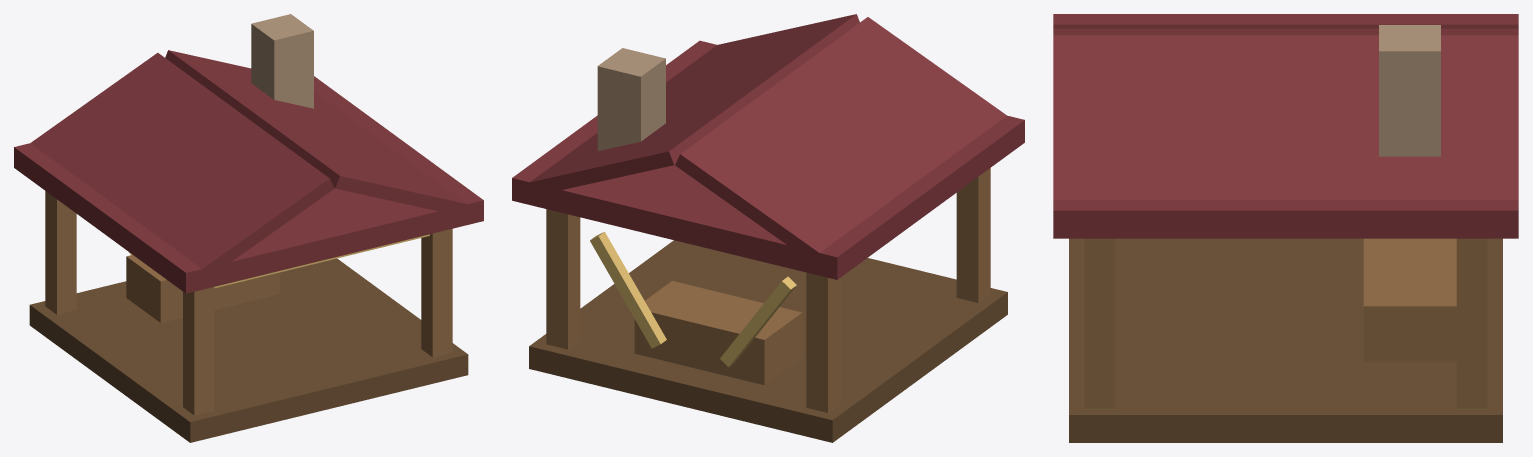
File: theme_human.glb
3 renders of one model, left to right at view 1: azimuth 30°, elevation 25°; view 2: azimuth 150°, elevation 25°; view 3: azimuth 270°, elevation 25°, orthographic. The views are drawn at different scales.
Parts seen in each view (by area): view 1: theme_human; view 2: theme_human; view 3: theme_human.
Part boxes in pixels (left/top/right/bottom): theme_human: left=14, top=14, right=483, bottom=442; theme_human: left=512, top=14, right=1024, bottom=442; theme_human: left=1053, top=14, right=1518, bottom=442.
Size of the model in its own units: 15 by 13 by 15.
